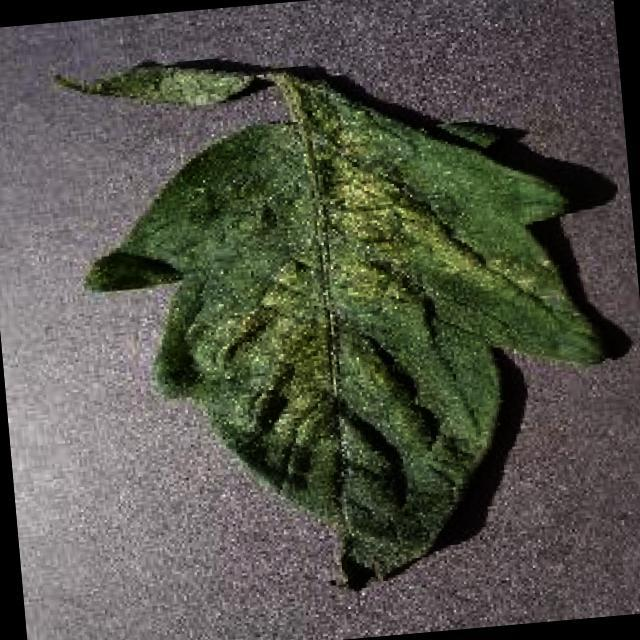Tomato spider mites leaf: (75, 96, 624, 612)
